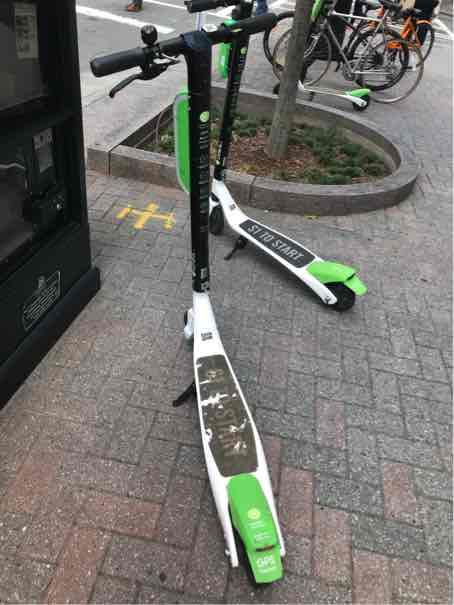scooter: (85, 15, 301, 583), (181, 9, 361, 320), (265, 0, 375, 113)
